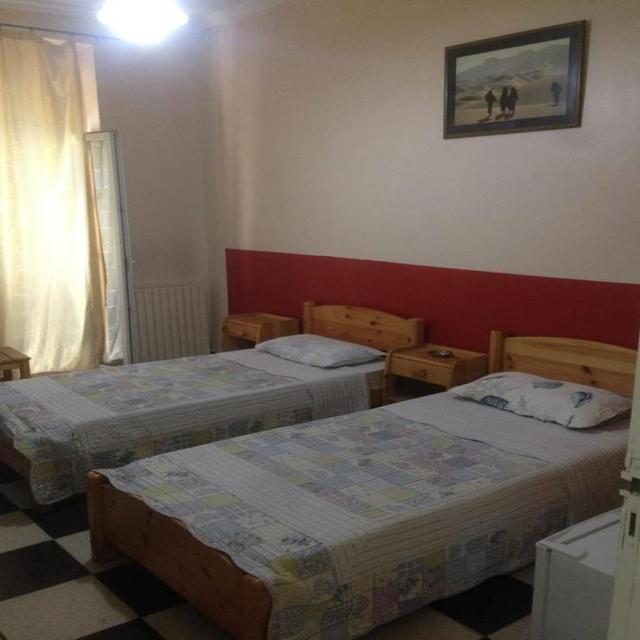bed: (130, 375, 614, 557), (0, 321, 393, 423)
beside table: (391, 322, 493, 400), (197, 298, 289, 364)
